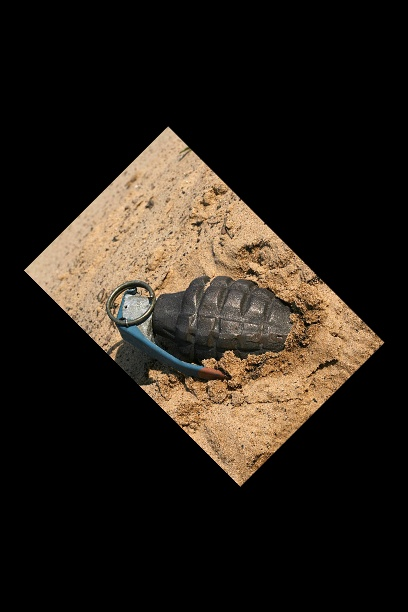e1: (107, 279, 293, 380)
